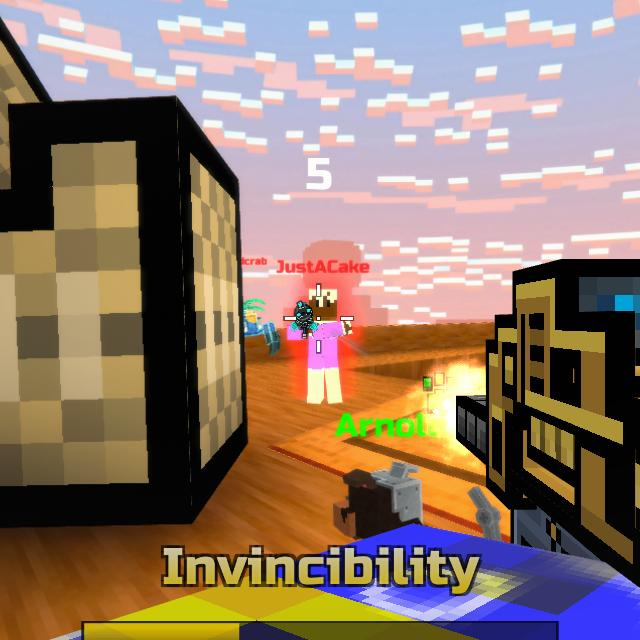Enemy: (289, 287, 354, 404)
